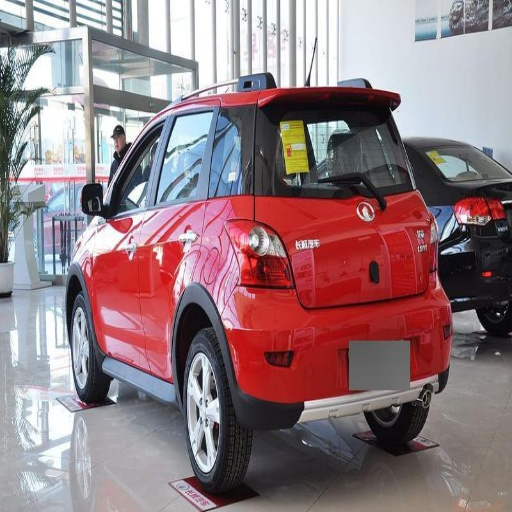back_bumper: (222, 273, 449, 426)
back_glass: (254, 104, 404, 193)
back_left_door: (139, 116, 211, 362)
tailgate: (288, 250, 388, 307)
trunk: (254, 196, 429, 299)
